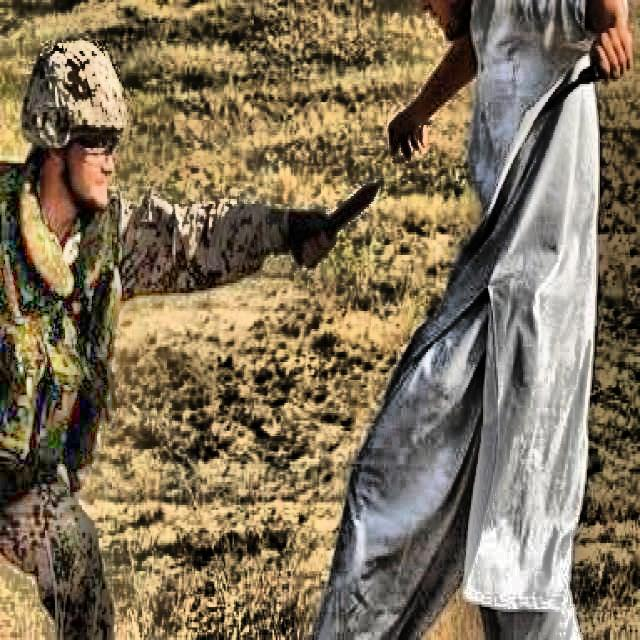knife: (294, 183, 381, 266), (540, 64, 601, 115)
